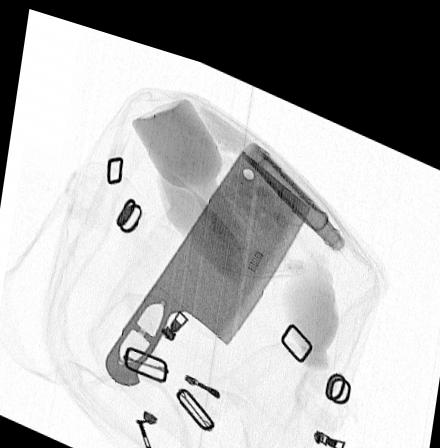Knife: (105, 136, 312, 378)
